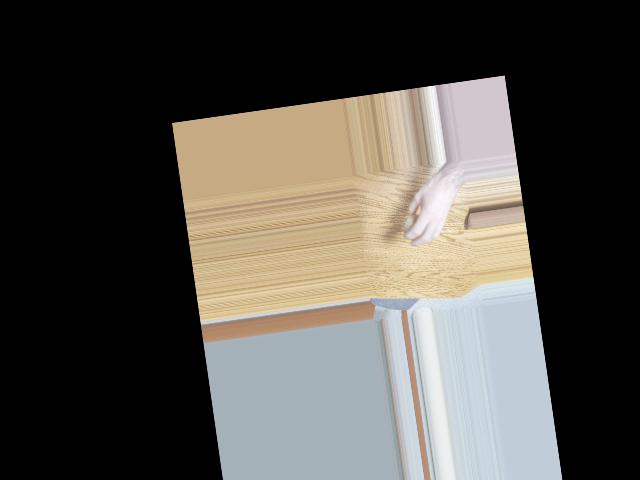onion: (402, 212, 426, 242)
